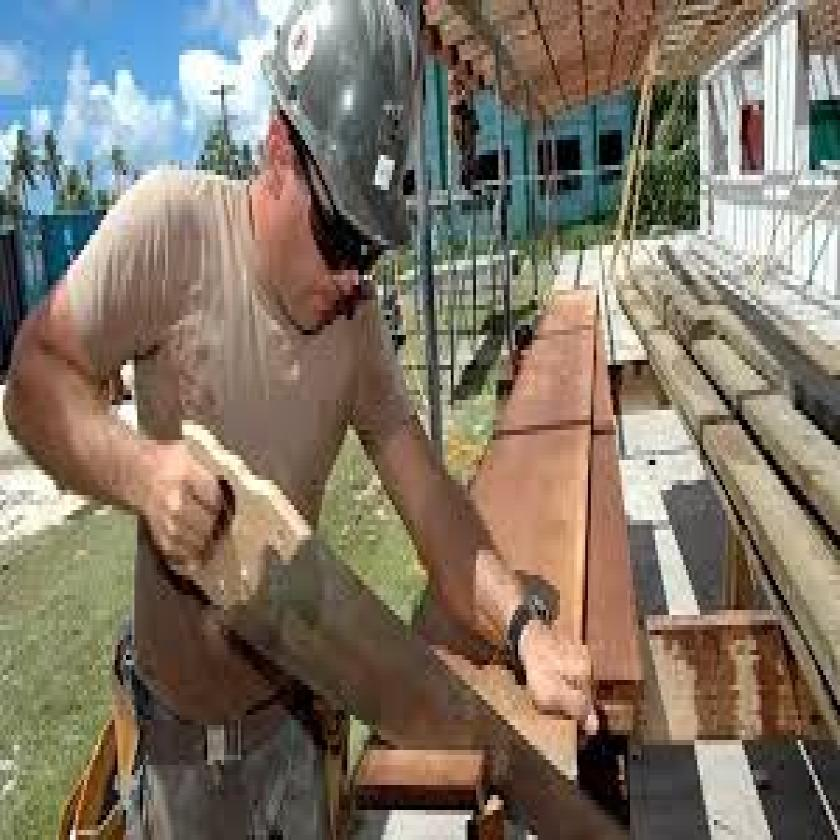Con_casco: (236, 0, 433, 346)
